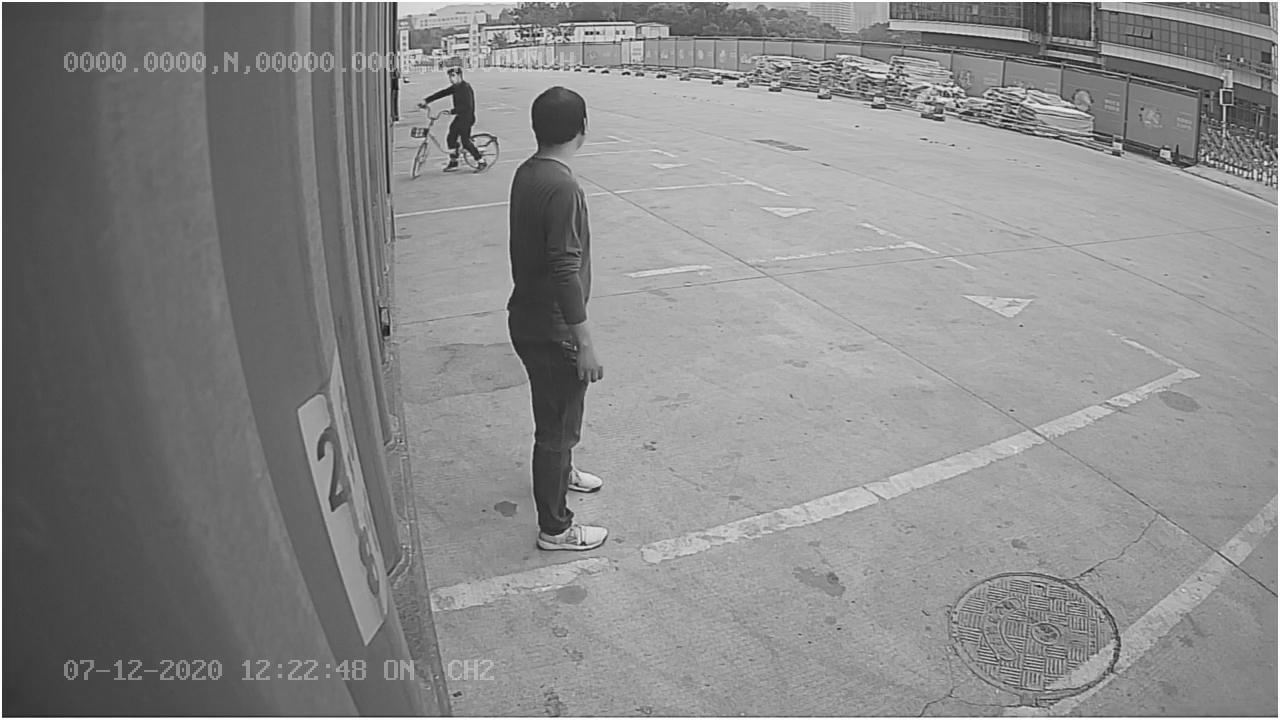person: (501, 82, 614, 556)
